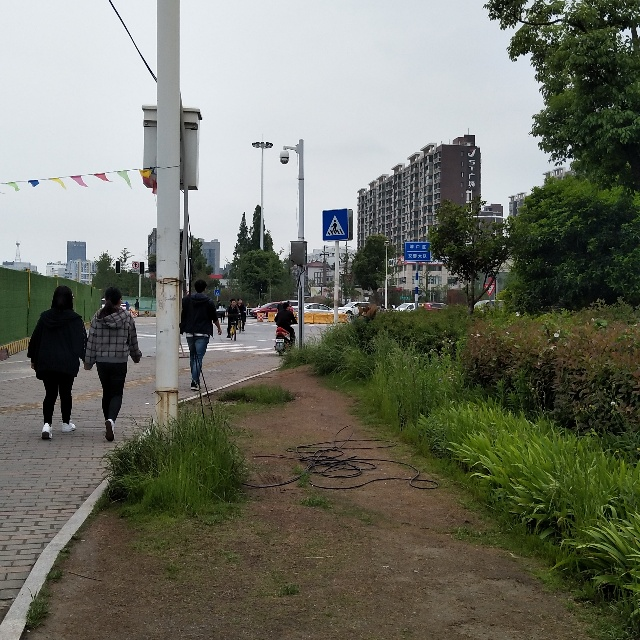crosswalk: (324, 208, 350, 243)
